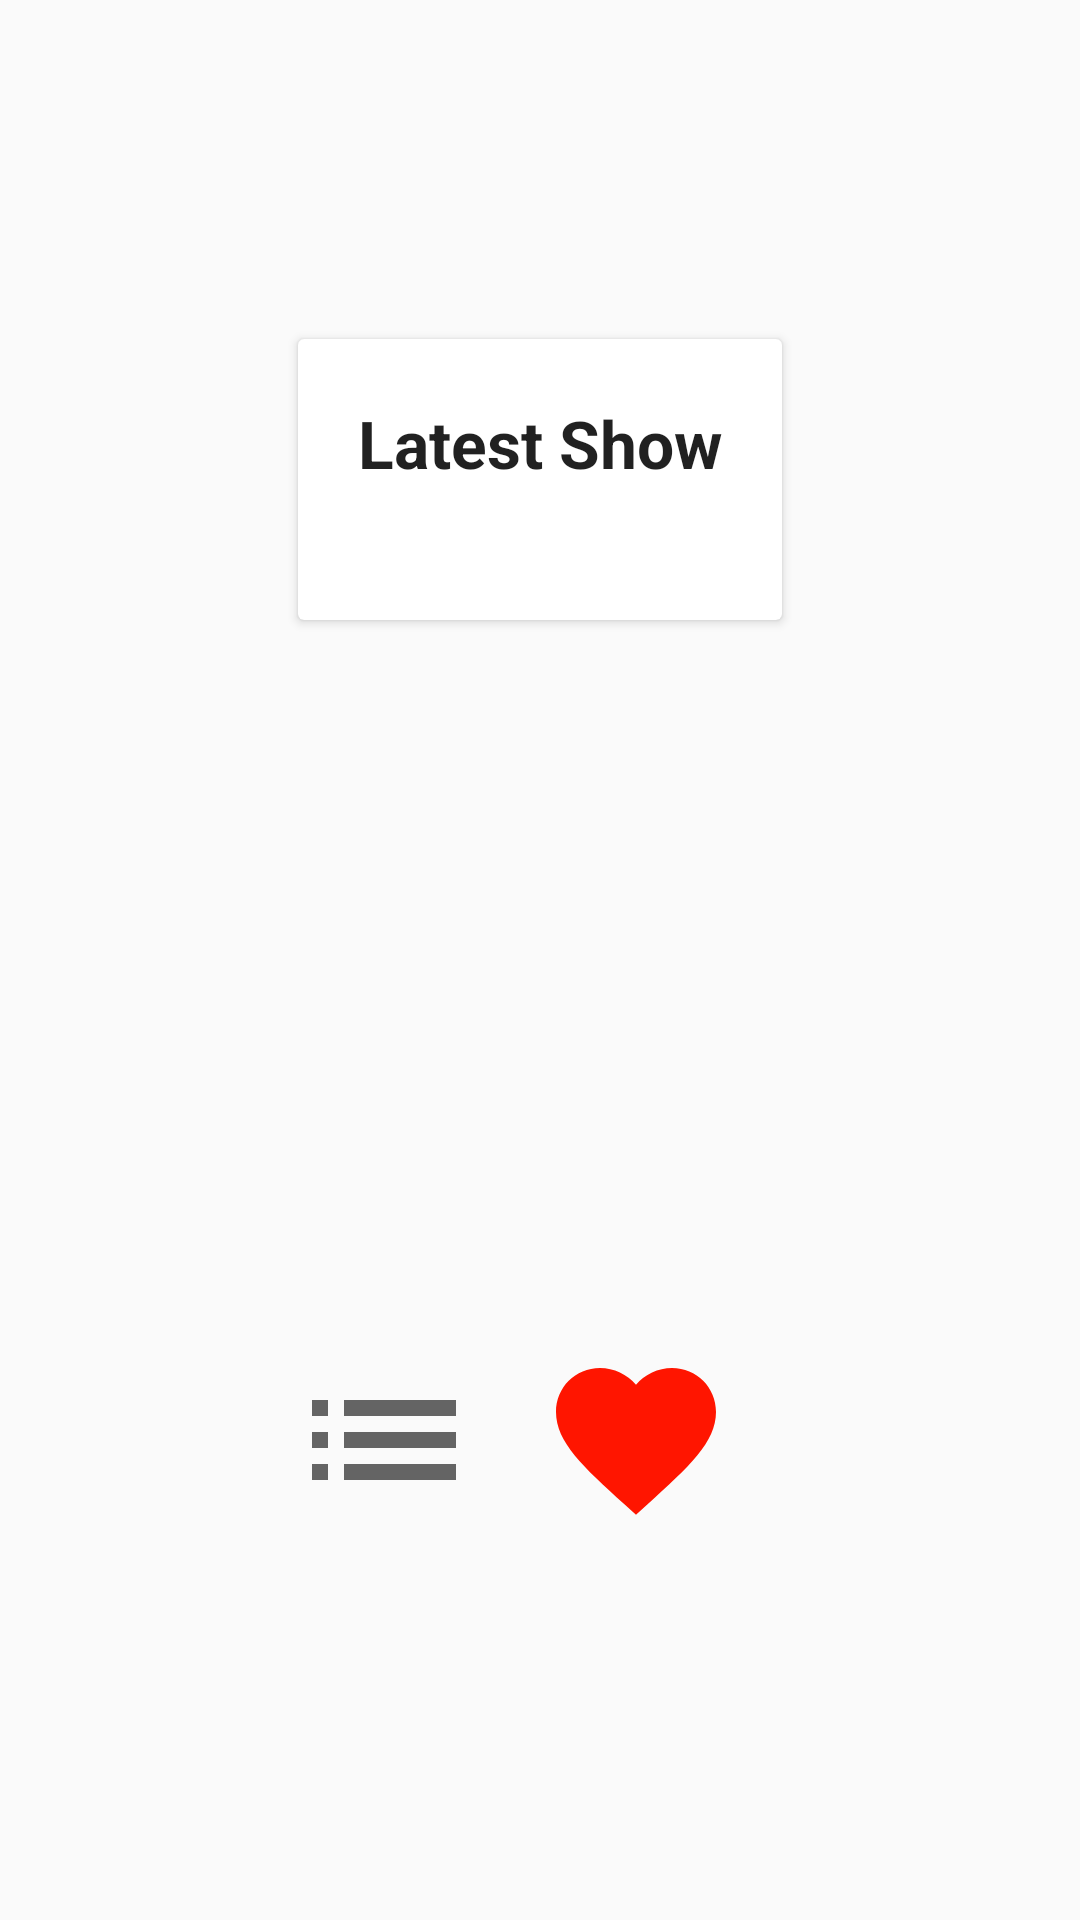

Named icons in this screenshot (1080px×1920px) and their centers, [x,y]:
home fav: [636,1441]
home list: [384,1440]
